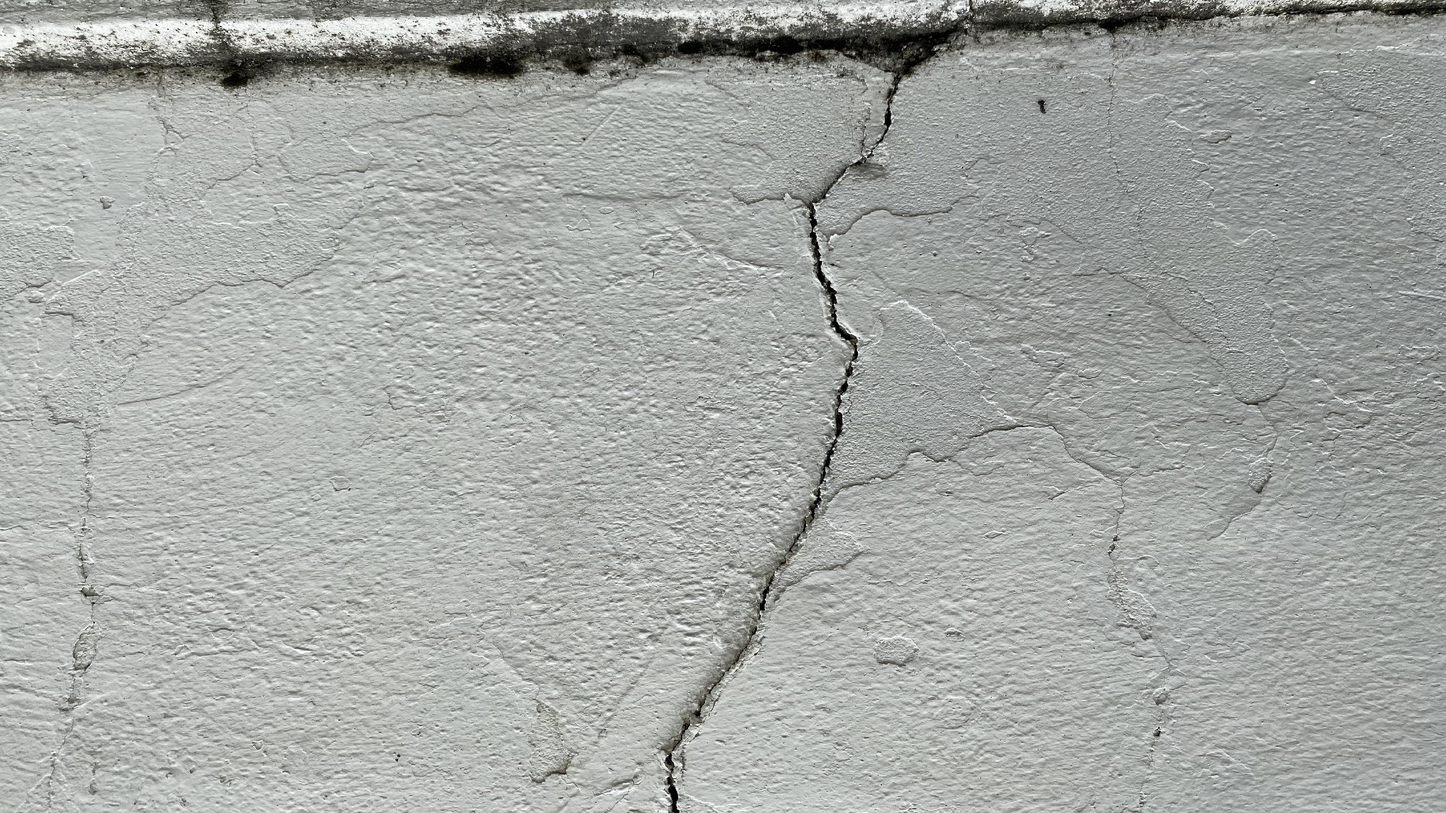crack: (651, 34, 955, 807)
